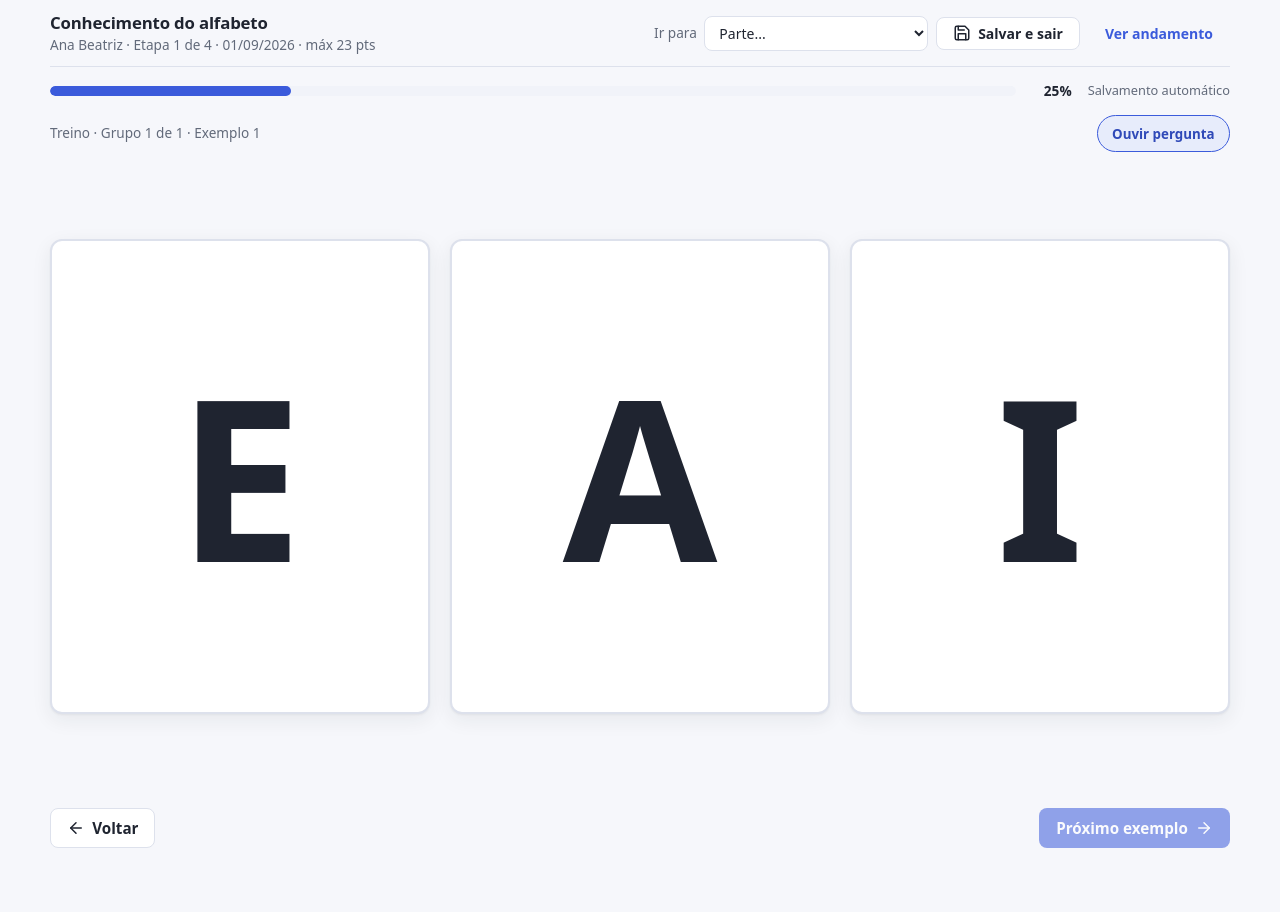
Test: ApplicationRunPage › navega entre as etapas após concluir
Expected: the heading "Conhecimento do alfabeto" is shown, x1=50 y1=11 x2=268 y2=34
Click the button "E".
click(240, 476)  # box x1=50 y1=239 x2=430 y2=714
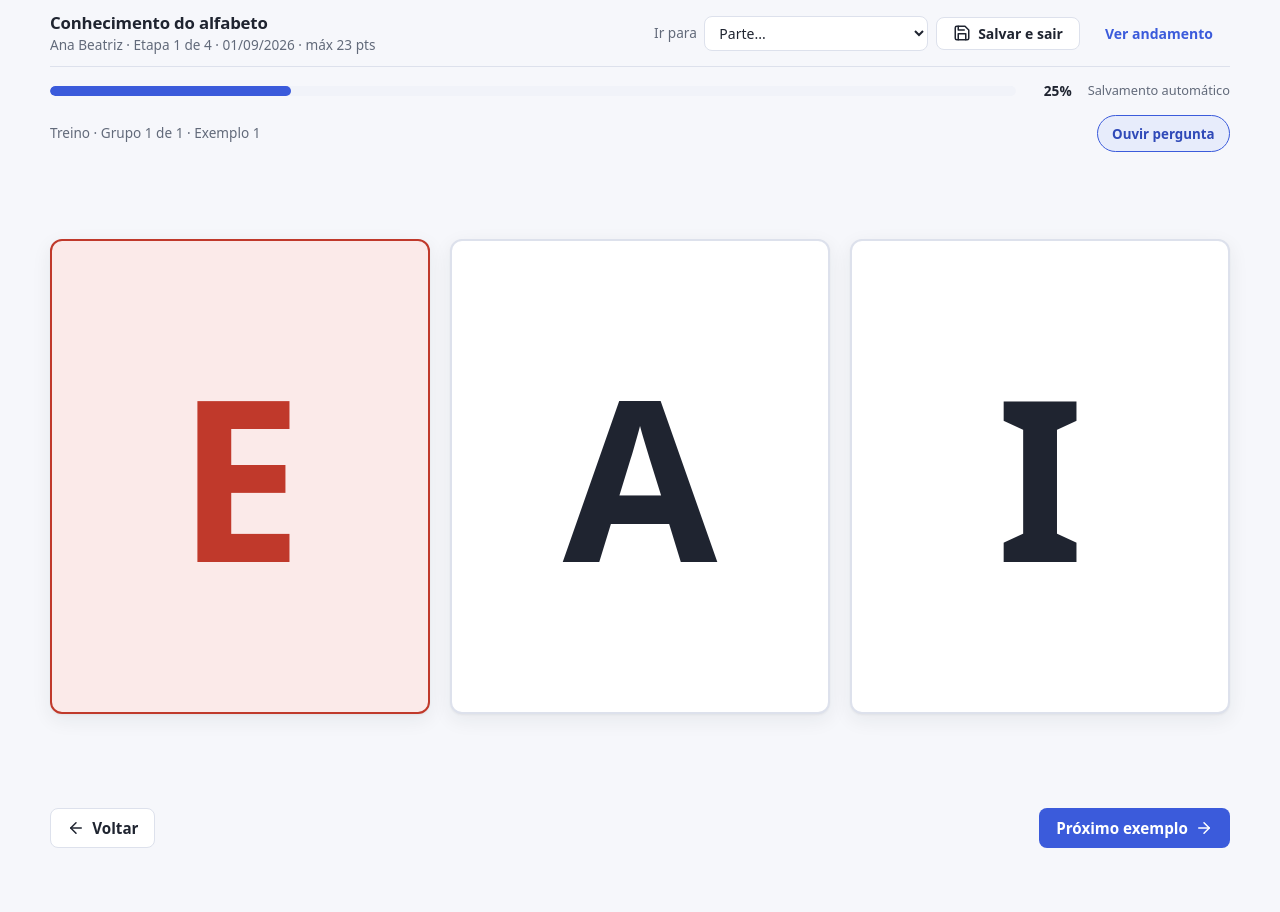
Click the button "Próximo exemplo".
click(1135, 828)  # box x1=1039 y1=808 x2=1230 y2=848
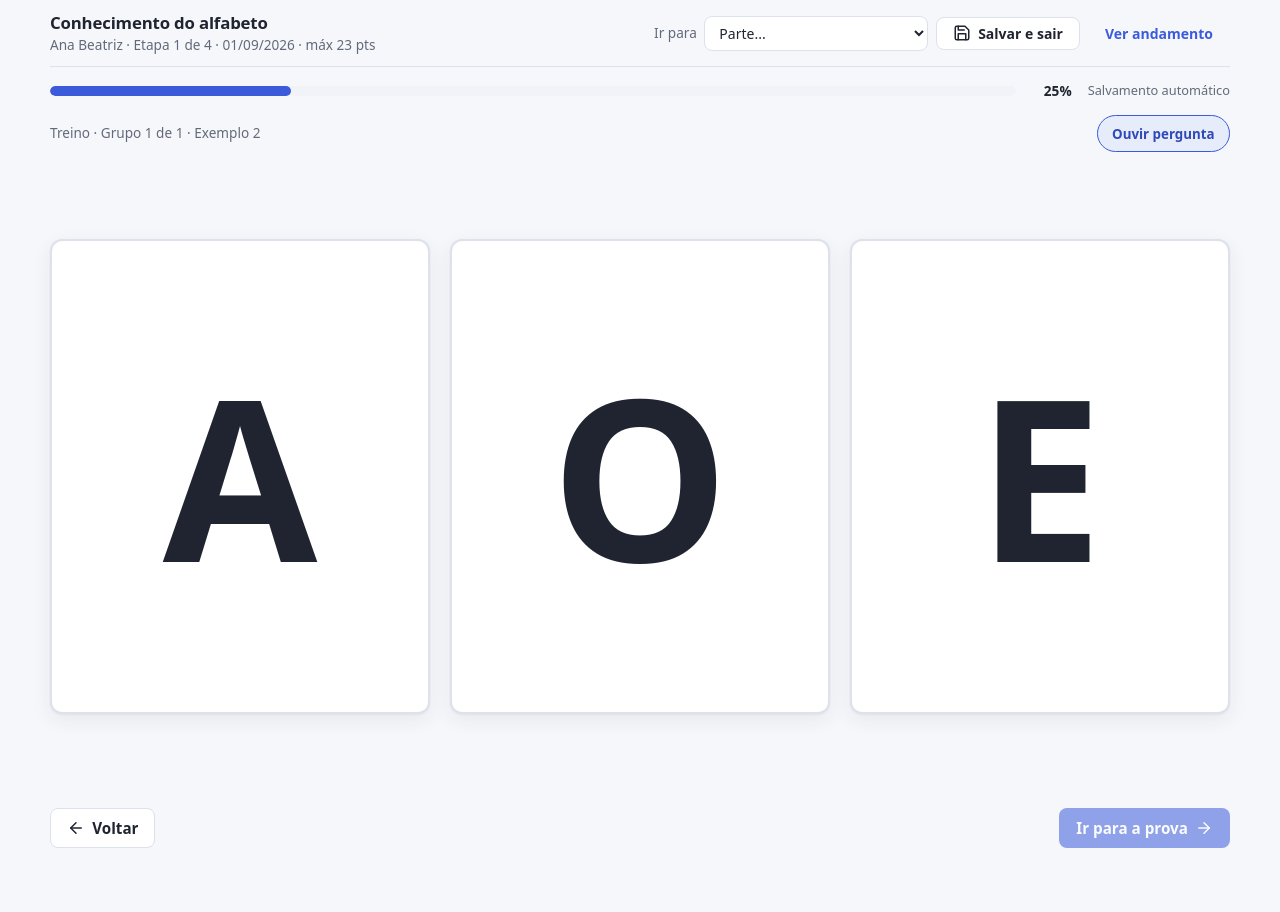
Click the button "A".
click(240, 476)  # box x1=50 y1=239 x2=430 y2=714
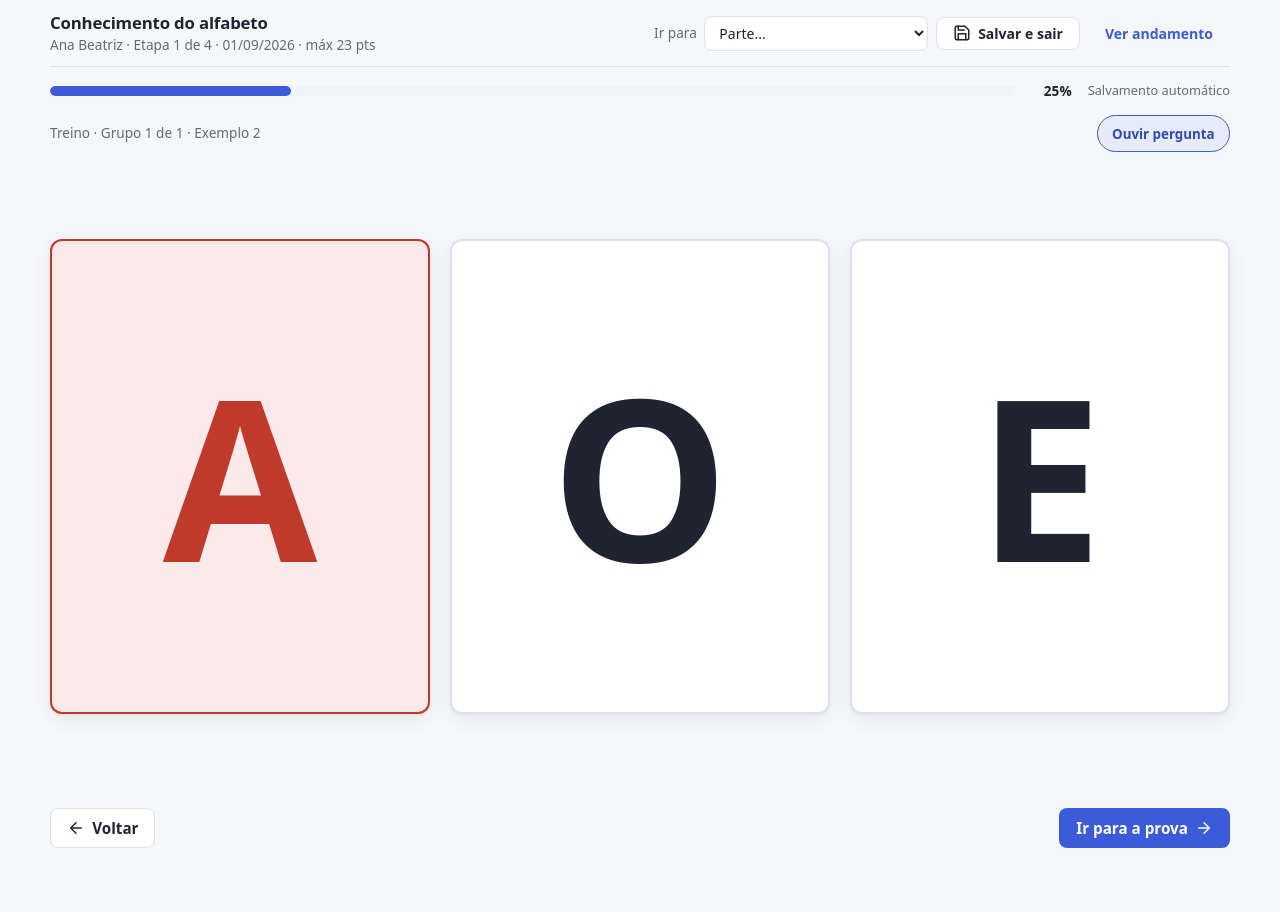
Click the button "Ir para a prova".
click(1145, 828)  # box x1=1059 y1=808 x2=1230 y2=848
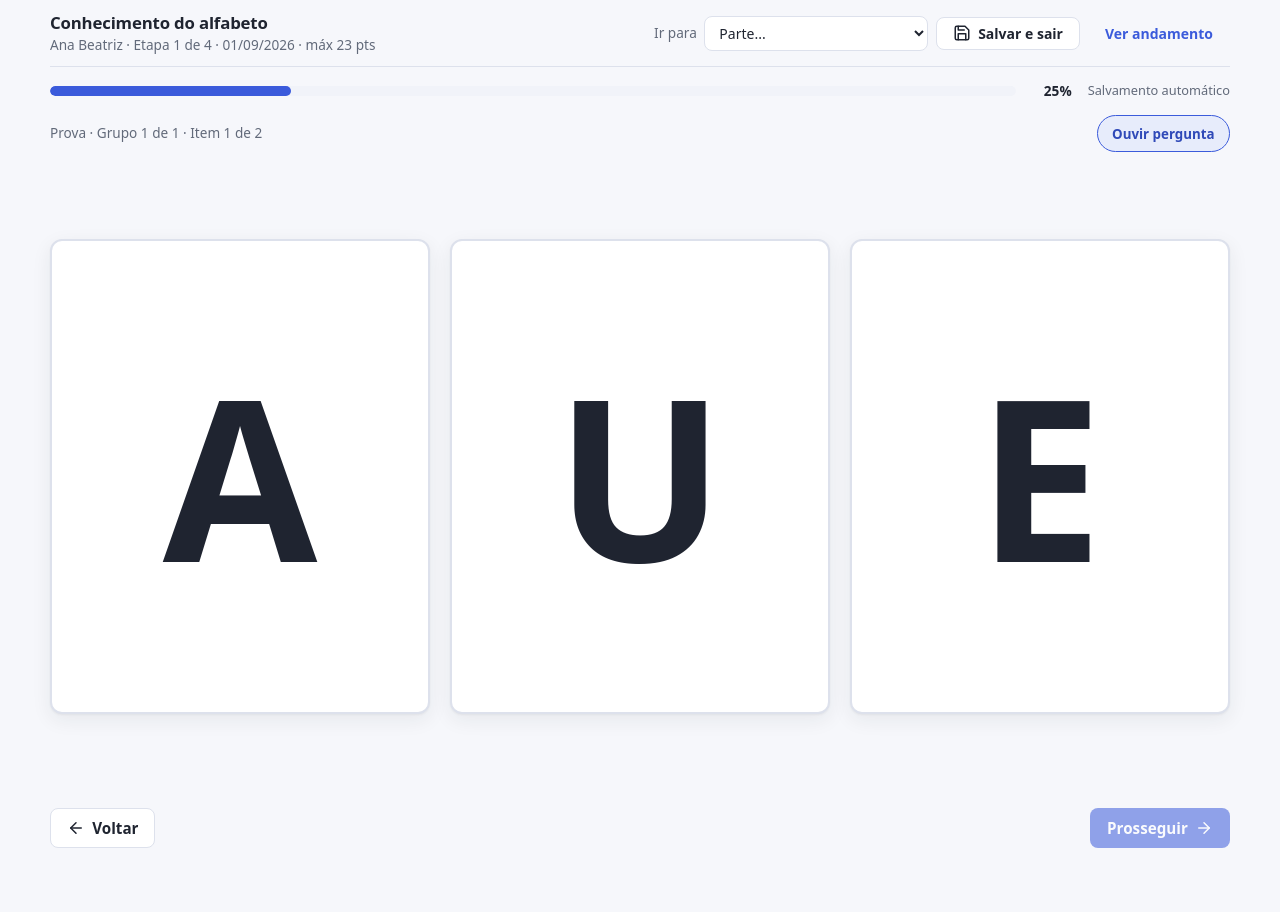
Expected: the text "Prova · Grupo 1 de 1 · Item 1 de 2" is shown, x1=50 y1=123 x2=262 y2=144
Click the button "A".
click(240, 476)  # box x1=50 y1=239 x2=430 y2=714
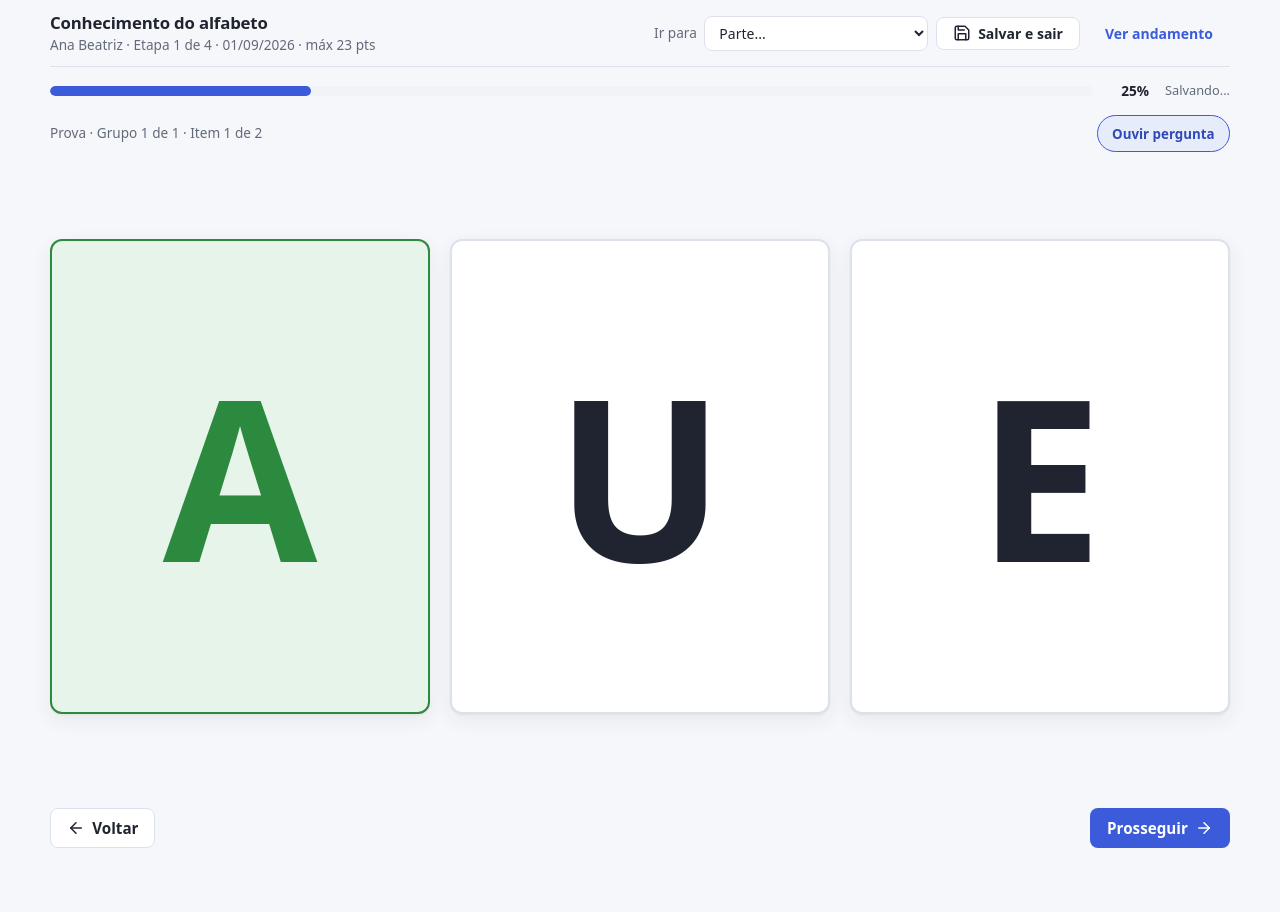
Click the button "Prosseguir".
click(1160, 828)  # box x1=1090 y1=808 x2=1230 y2=848
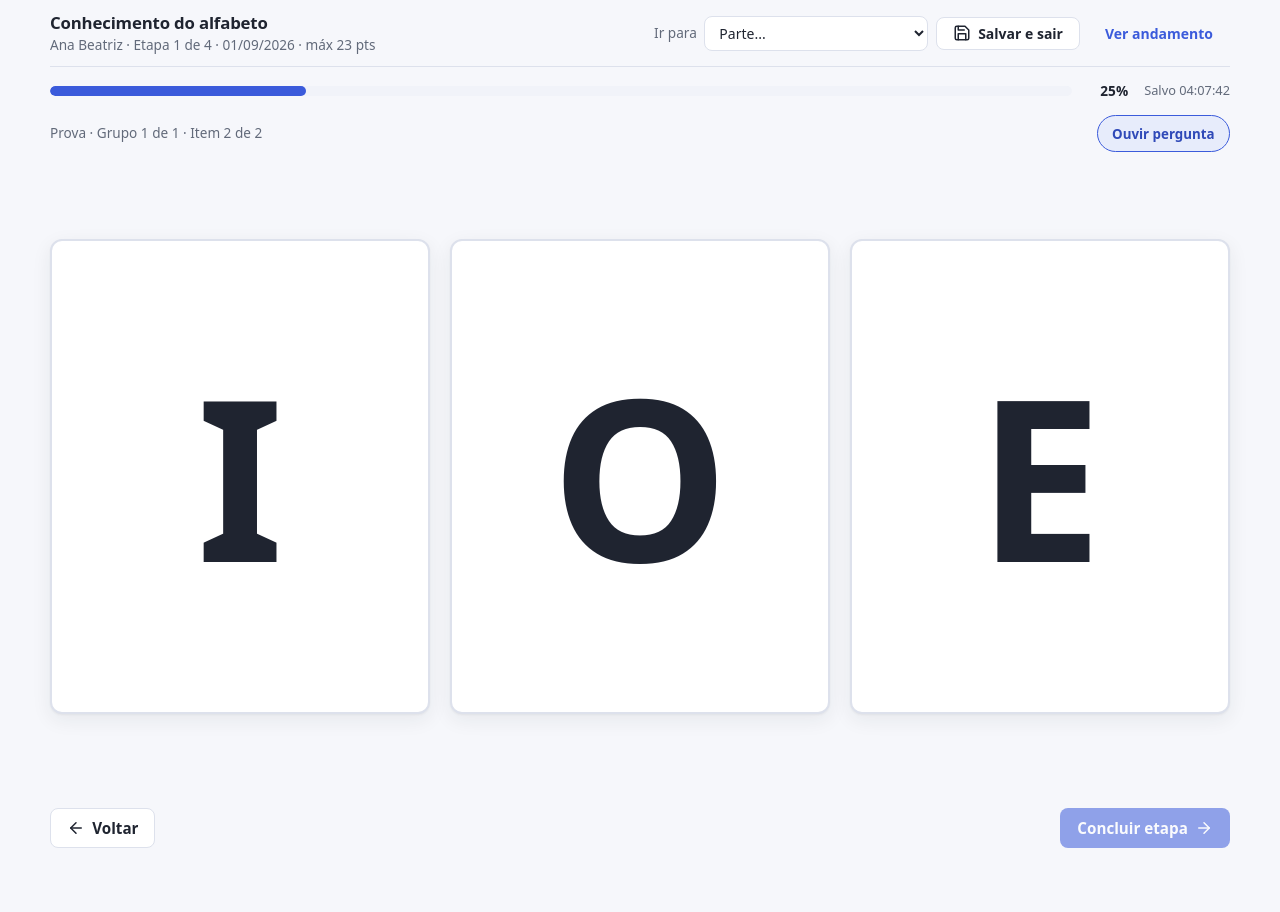
Expected: the text "Prova · Grupo 1 de 1 · Item 2 de 2" is shown, x1=50 y1=123 x2=262 y2=144
